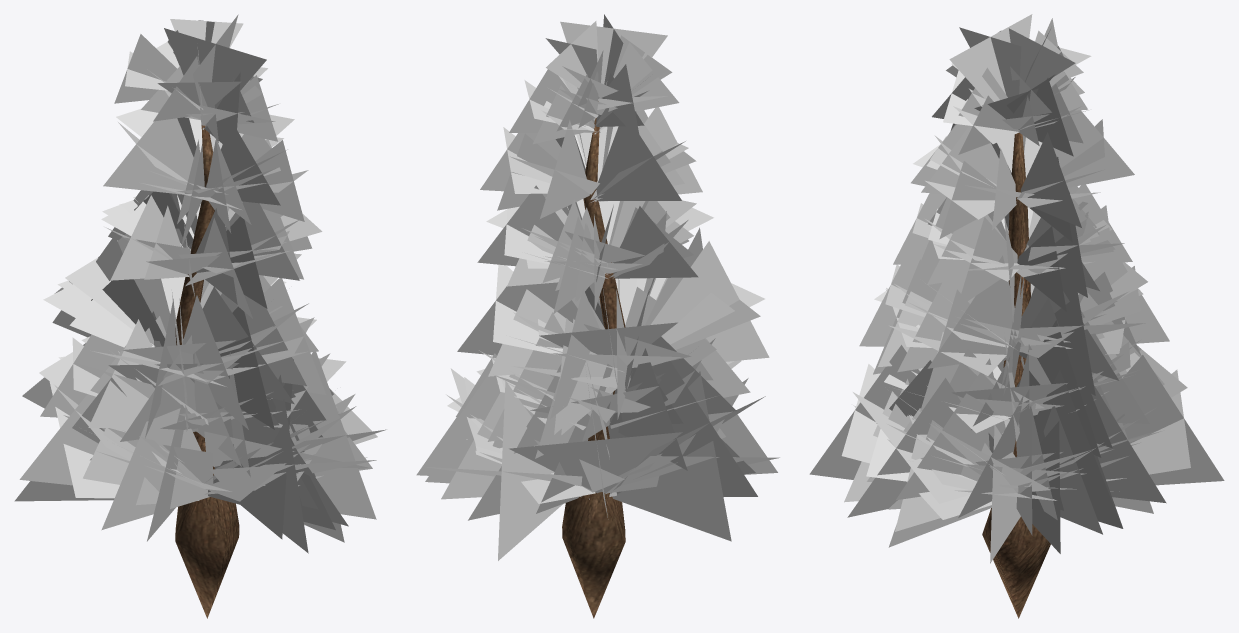
The picture shows the model from 3 angles, left to right: view 1: azimuth 30°, elevation 25°; view 2: azimuth 150°, elevation 25°; view 3: azimuth 270°, elevation 25°; orthographic projection.
Parts seen in each view (by area): view 1: tree_LOD0; view 2: tree_LOD0; view 3: tree_LOD0.
Part boxes in pixels (x1,y1,x2,y2): tree_LOD0: (14, 14, 386, 618); tree_LOD0: (416, 14, 779, 618); tree_LOD0: (809, 14, 1224, 618).
Size of what is drawn, in the model's own units: 849 by 1526 by 970.
